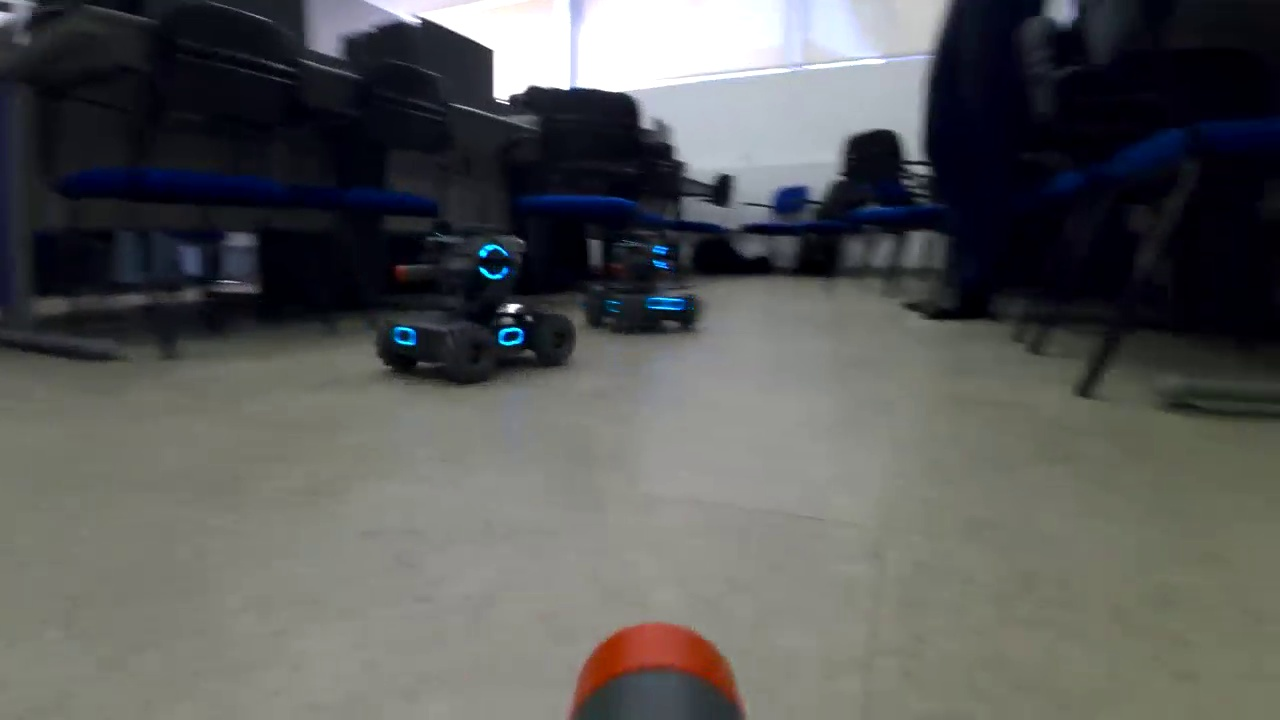robot: (369, 222, 584, 394), (576, 220, 706, 338)
